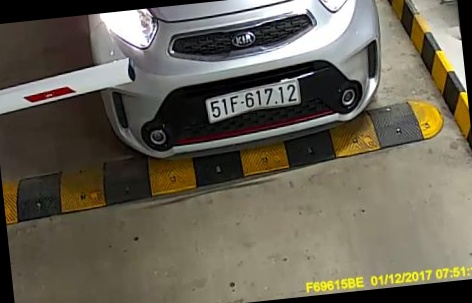plate: (202, 81, 306, 130)
